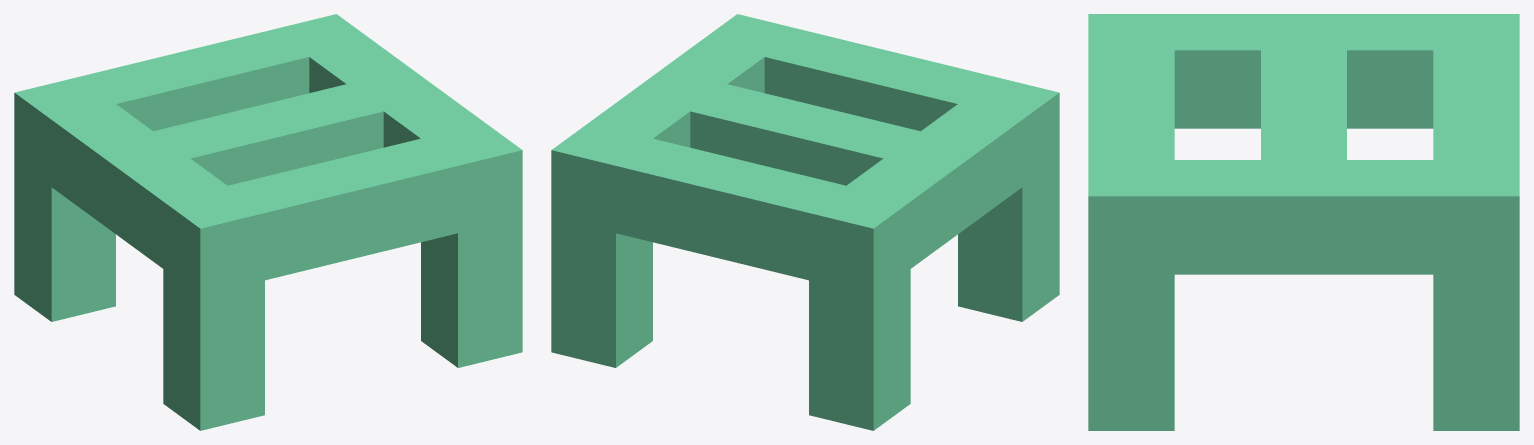
Rendered from Stand_small.obj.
3 views of the same model, side by side, from view 1: azimuth 30°, elevation 25°; view 2: azimuth 150°, elevation 25°; view 3: azimuth 270°, elevation 25° (orthographic). The views are drawn at different scales.
Size of the model in its own units: 0.5 by 0.3 by 0.5.
